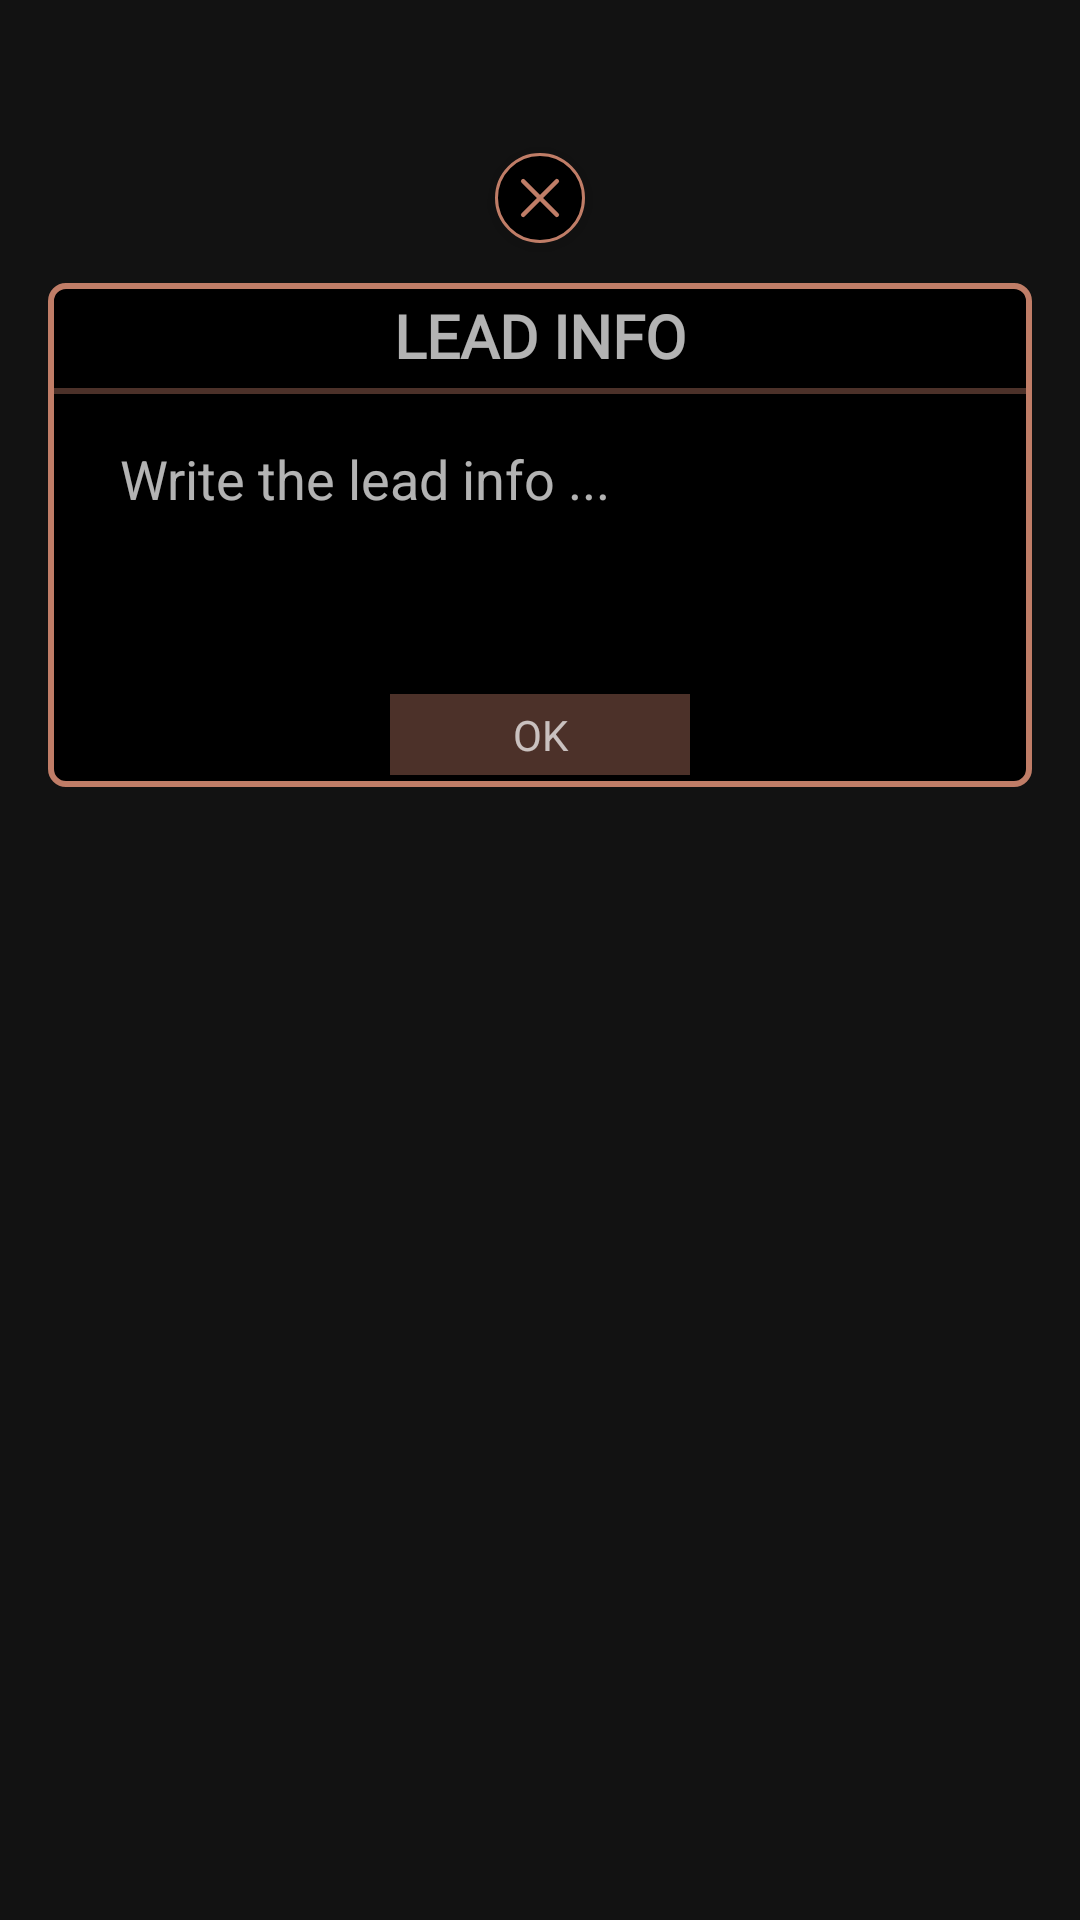

Screen size 1080px x 1920px. Icon name, then its center in pixels as (x=x, y=y):
simple cross: (x=540, y=198)
